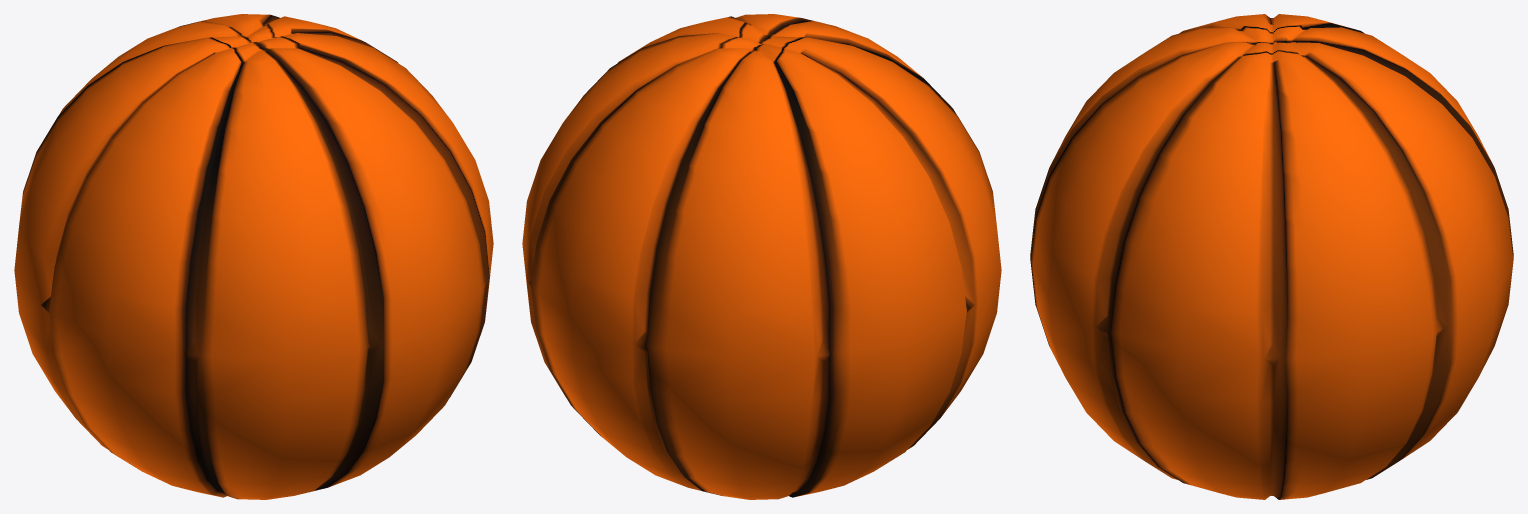
The model's file is basketball.obj.
3 renders of one model, left to right at view 1: azimuth 30°, elevation 25°; view 2: azimuth 150°, elevation 25°; view 3: azimuth 270°, elevation 25°, orthographic.
Visible parts, largest first — view 1: Sphere; view 2: Sphere; view 3: Sphere.
Boxes of the visible parts, x1,y1,x2,y2 form: Sphere: [14, 14, 493, 499]; Sphere: [522, 14, 1001, 499]; Sphere: [1030, 14, 1513, 499].
Size of the model in its own units: 1.97 by 1.96 by 1.97.
